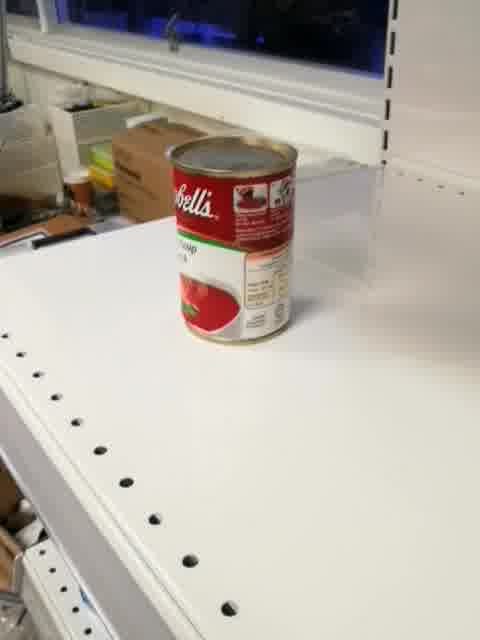tomatosoup: (164, 133, 300, 346)
